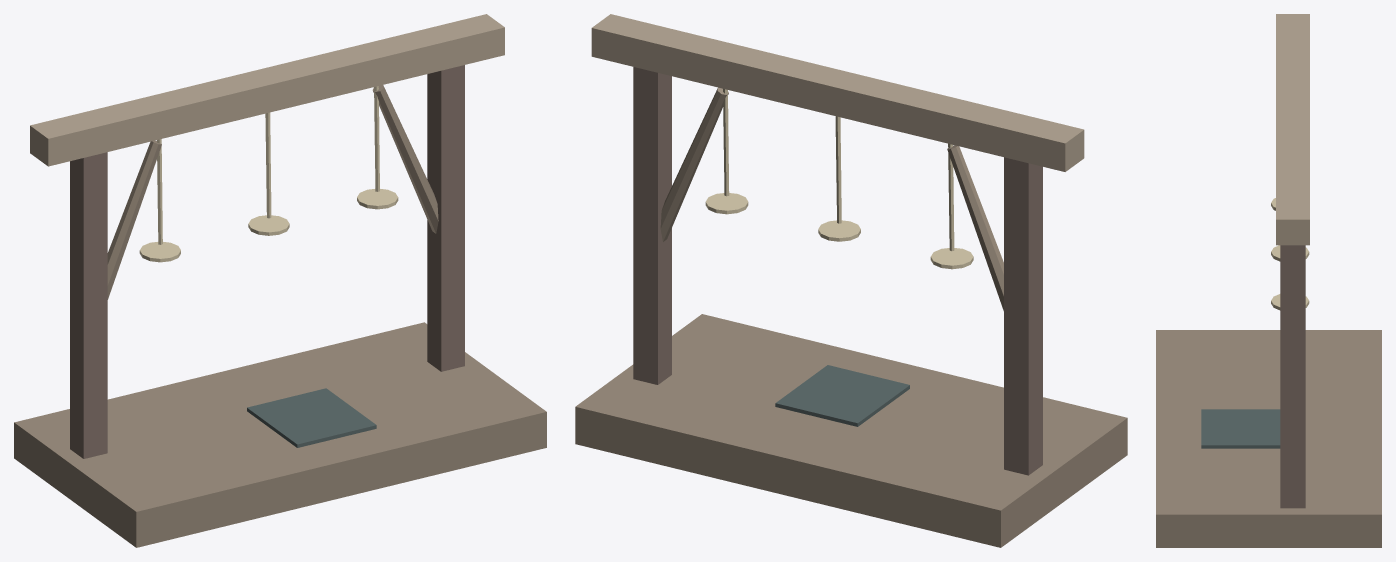
The model's file is gallows_three_nooses.glb.
3 views of the same model, side by side, from view 1: azimuth 30°, elevation 25°; view 2: azimuth 150°, elevation 25°; view 3: azimuth 270°, elevation 25° (orthographic). The views are drawn at different scales.
Parts seen in each view (by area): view 1: gallows_three_nooses_material_00, gallows_three_nooses_material_01, gallows_three_nooses_material_02, gallows_three_nooses_material_04, gallows_three_nooses_material_03; view 2: gallows_three_nooses_material_00, gallows_three_nooses_material_01, gallows_three_nooses_material_02, gallows_three_nooses_material_04, gallows_three_nooses_material_03; view 3: gallows_three_nooses_material_00, gallows_three_nooses_material_02, gallows_three_nooses_material_01, gallows_three_nooses_material_04, gallows_three_nooses_material_03.
Part boxes in pixels (bbox=[...]): gallows_three_nooses_material_00: bbox=[14, 85, 546, 547]; gallows_three_nooses_material_01: bbox=[70, 65, 464, 458]; gallows_three_nooses_material_02: bbox=[30, 14, 504, 166]; gallows_three_nooses_material_04: bbox=[247, 388, 376, 447]; gallows_three_nooses_material_03: bbox=[139, 86, 398, 262]; gallows_three_nooses_material_00: bbox=[575, 87, 1127, 547]; gallows_three_nooses_material_01: bbox=[633, 67, 1042, 475]; gallows_three_nooses_material_02: bbox=[591, 14, 1084, 171]; gallows_three_nooses_material_04: bbox=[775, 365, 909, 426]; gallows_three_nooses_material_03: bbox=[705, 88, 973, 269]; gallows_three_nooses_material_00: bbox=[1156, 330, 1381, 547]; gallows_three_nooses_material_02: bbox=[1276, 14, 1309, 245]; gallows_three_nooses_material_01: bbox=[1280, 245, 1305, 508]; gallows_three_nooses_material_04: bbox=[1201, 409, 1280, 448]; gallows_three_nooses_material_03: bbox=[1271, 198, 1309, 310].
Bounding box in the file's own units: 3.45 × 2.65 × 1.6.
